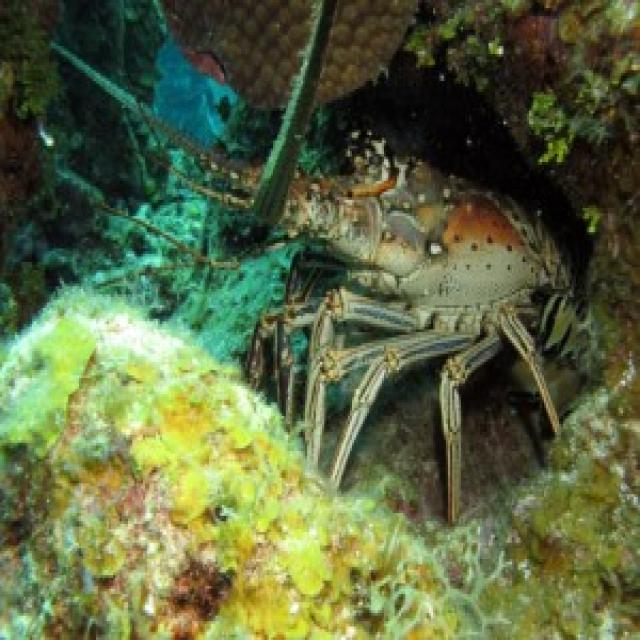lobsters: (218, 100, 640, 533)
